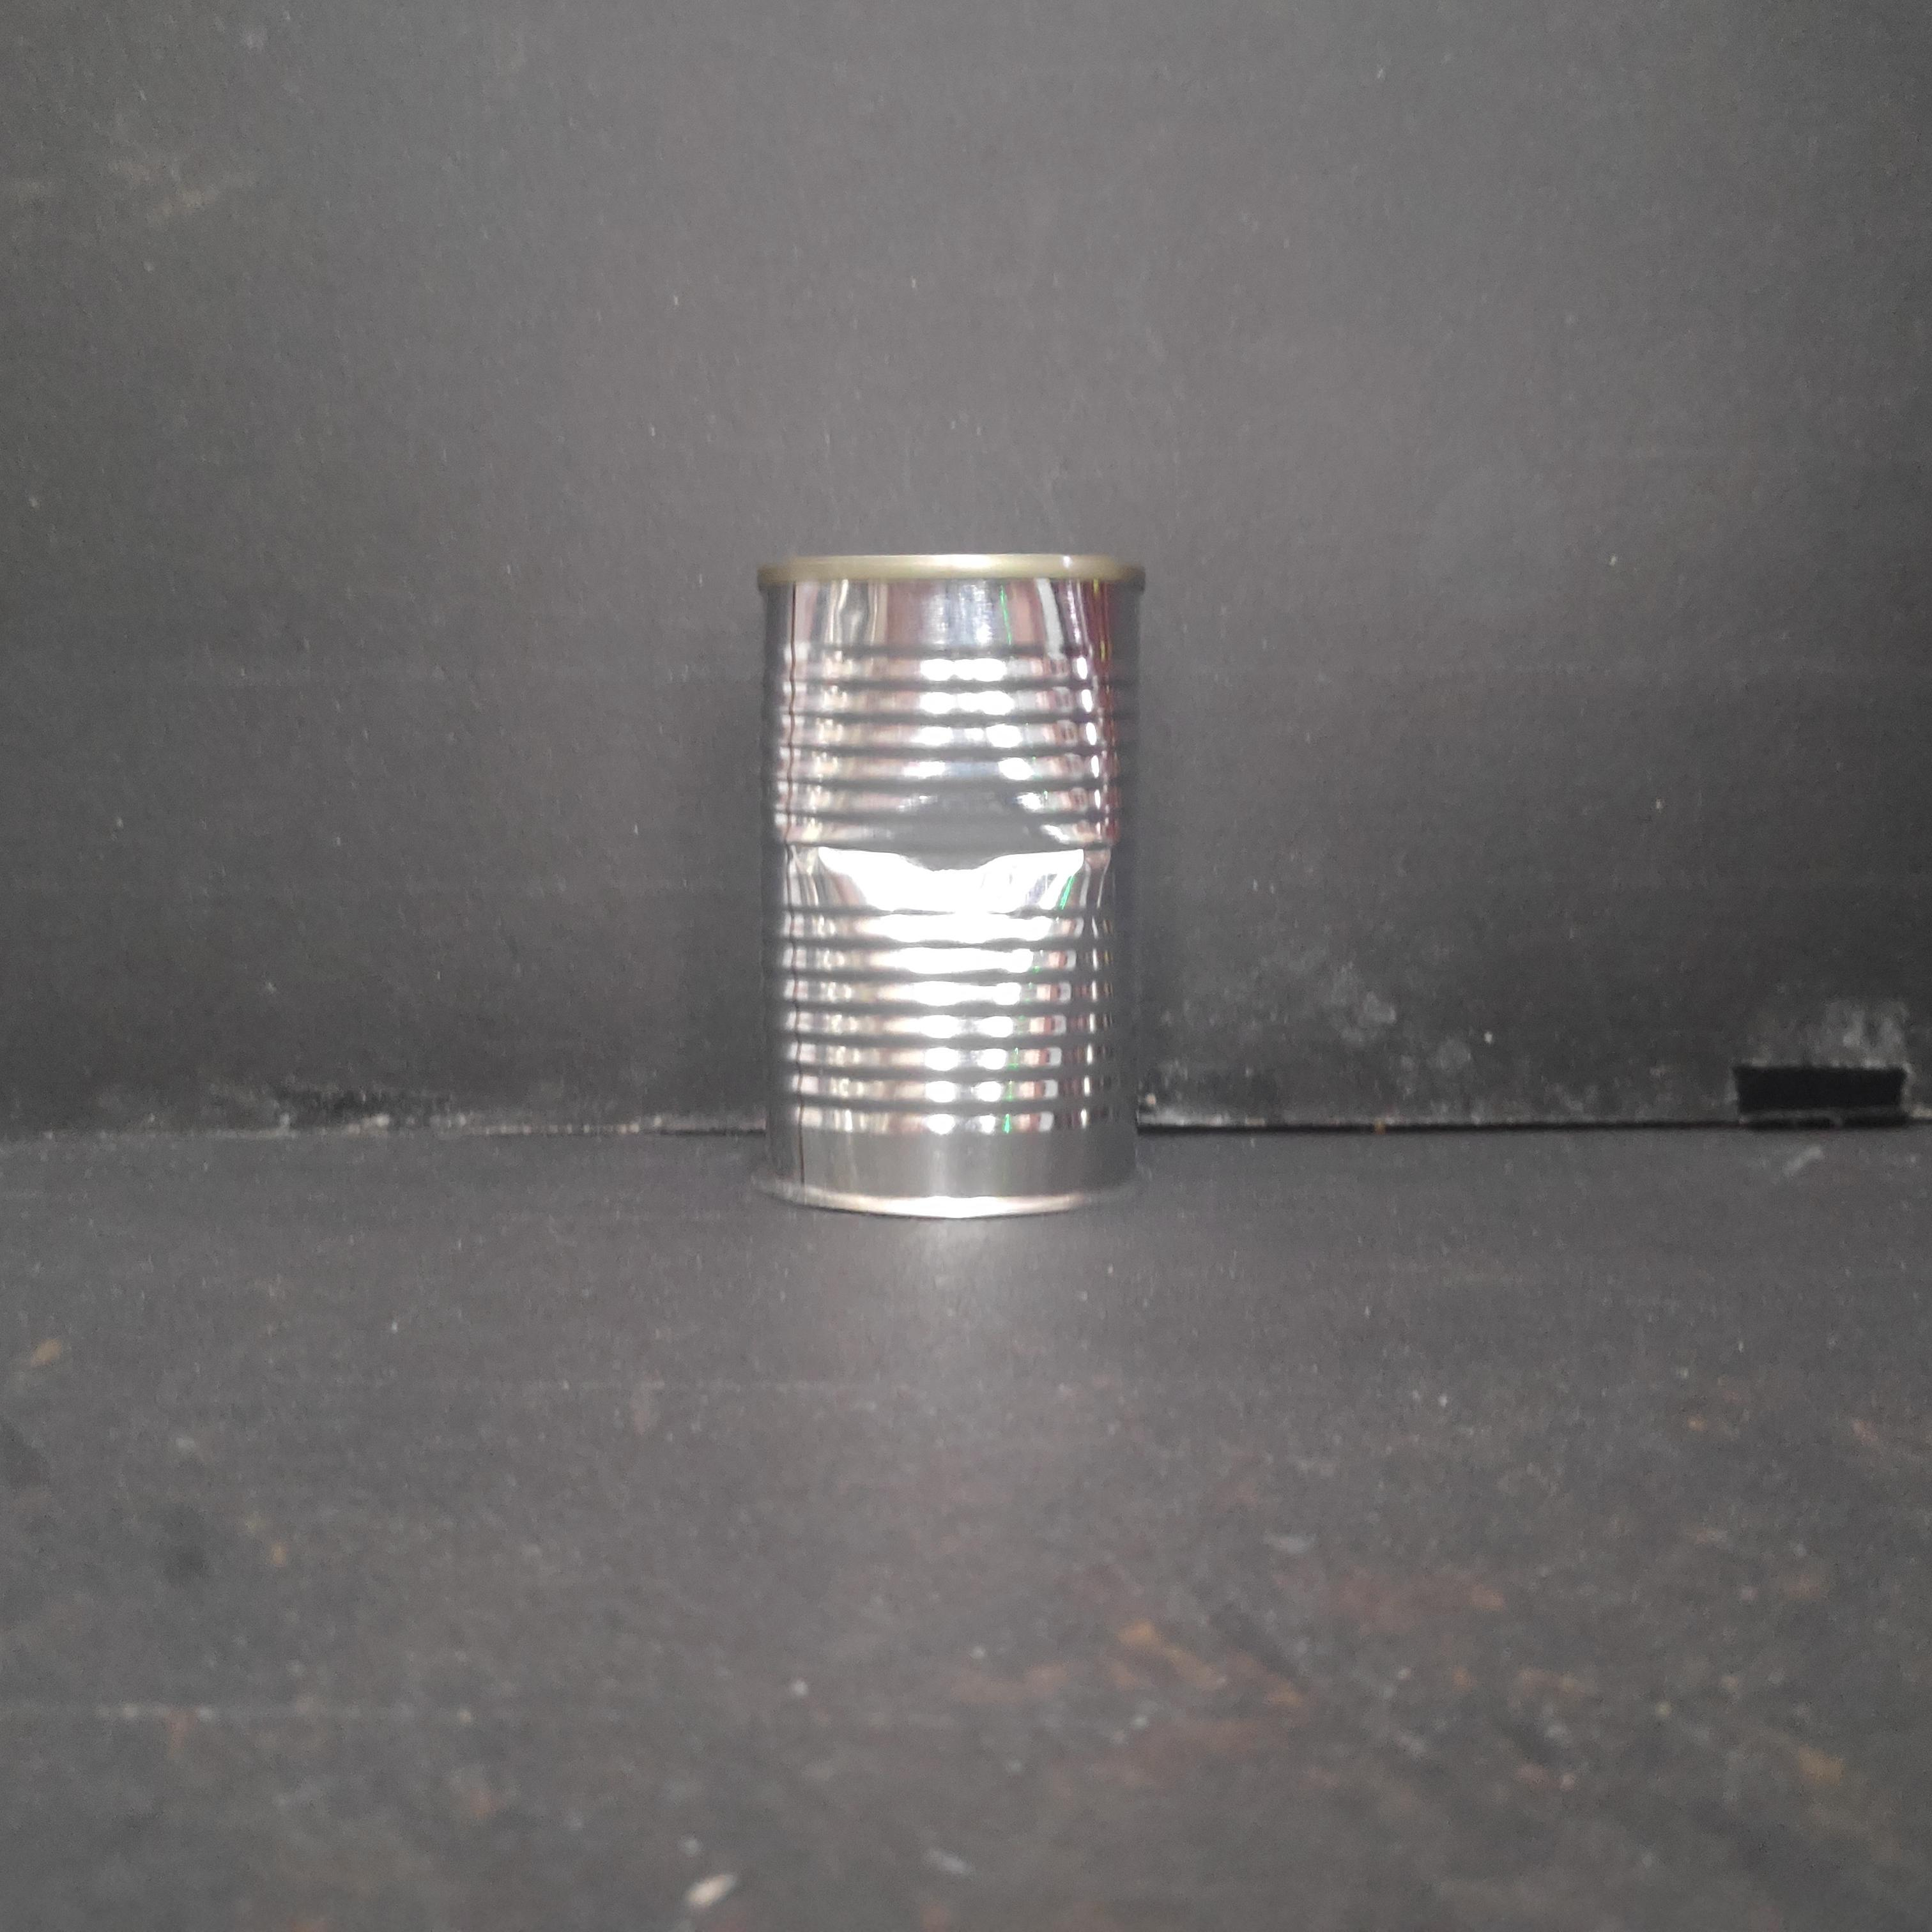Minor Defect: (745, 543, 1154, 1231)
